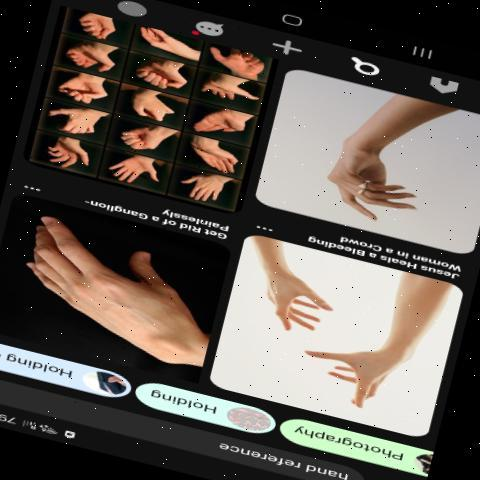Hands: (15, 211, 205, 369), (306, 120, 440, 237), (302, 336, 424, 424), (246, 259, 350, 351), (104, 152, 168, 196), (184, 134, 241, 182), (184, 102, 246, 145), (196, 70, 261, 110), (46, 99, 103, 142), (134, 25, 198, 62), (172, 169, 234, 207), (43, 133, 90, 176)
